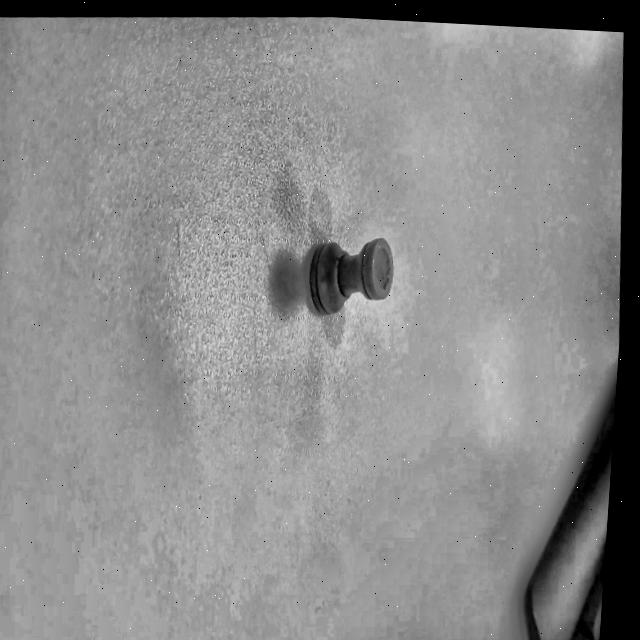white-rook: (310, 237, 393, 314)
